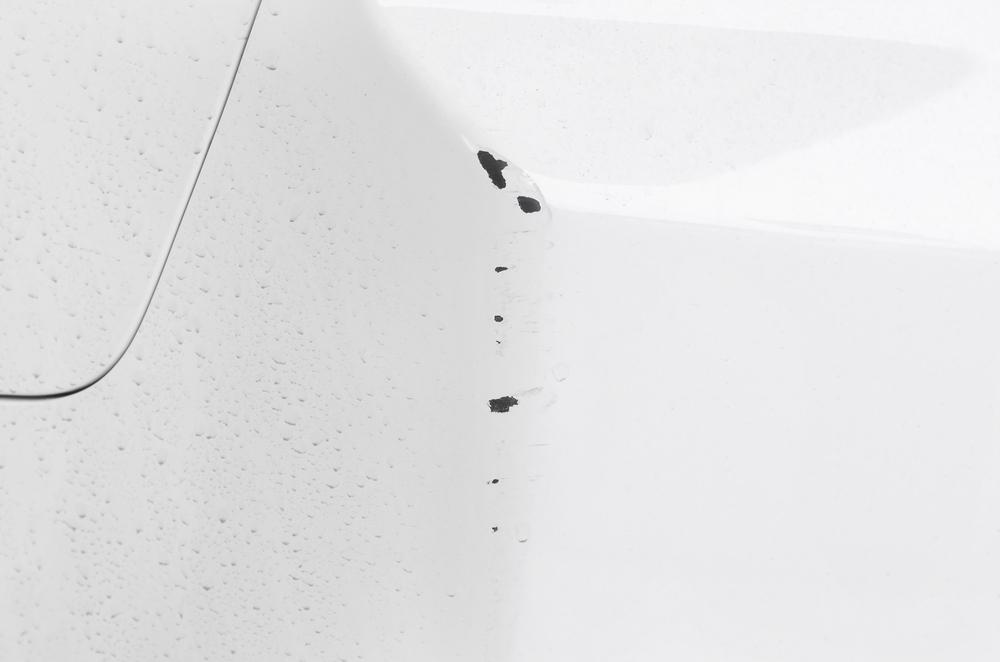scratch: (471, 138, 566, 550)
